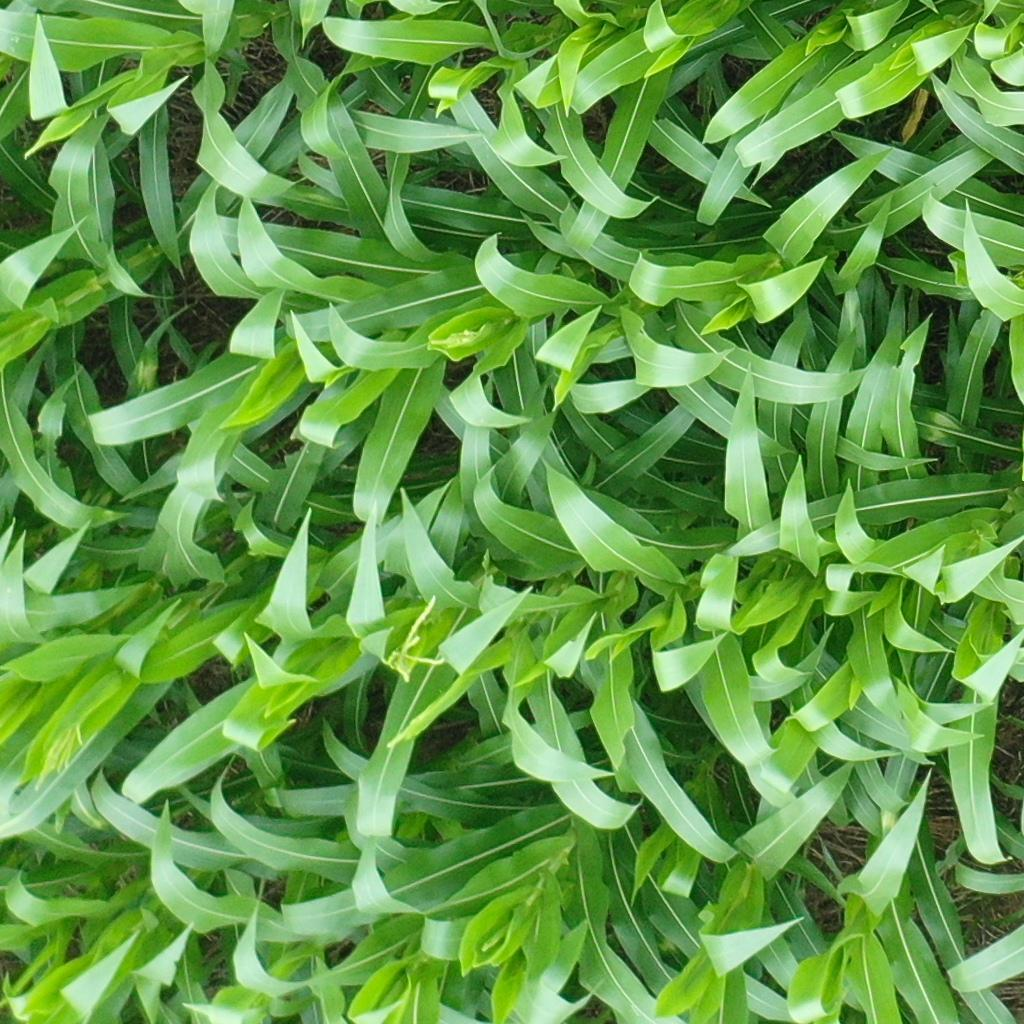Tassel: (376, 594, 447, 685), (31, 723, 87, 790), (383, 705, 425, 751), (431, 328, 476, 346)
